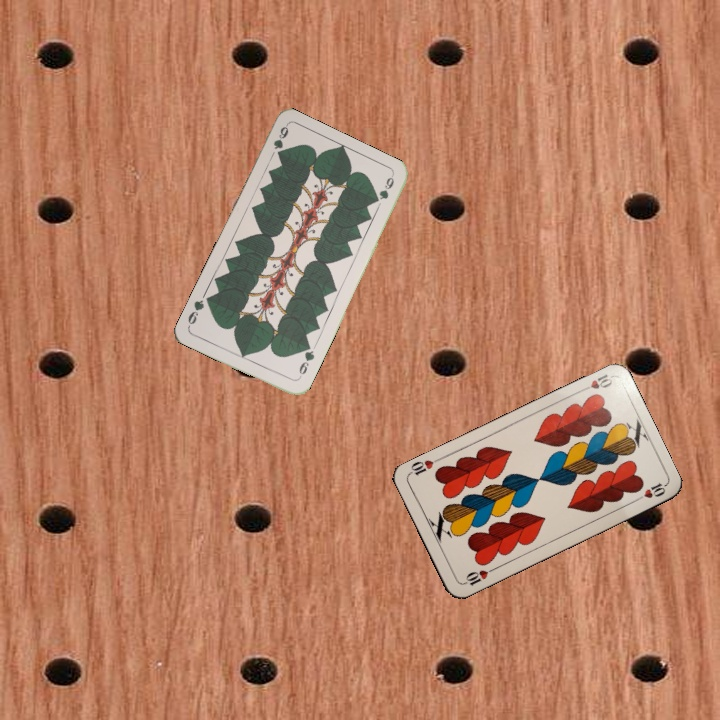G9: (294, 342, 317, 382), (269, 122, 291, 160)
H10: (576, 370, 615, 395), (459, 564, 498, 588)
